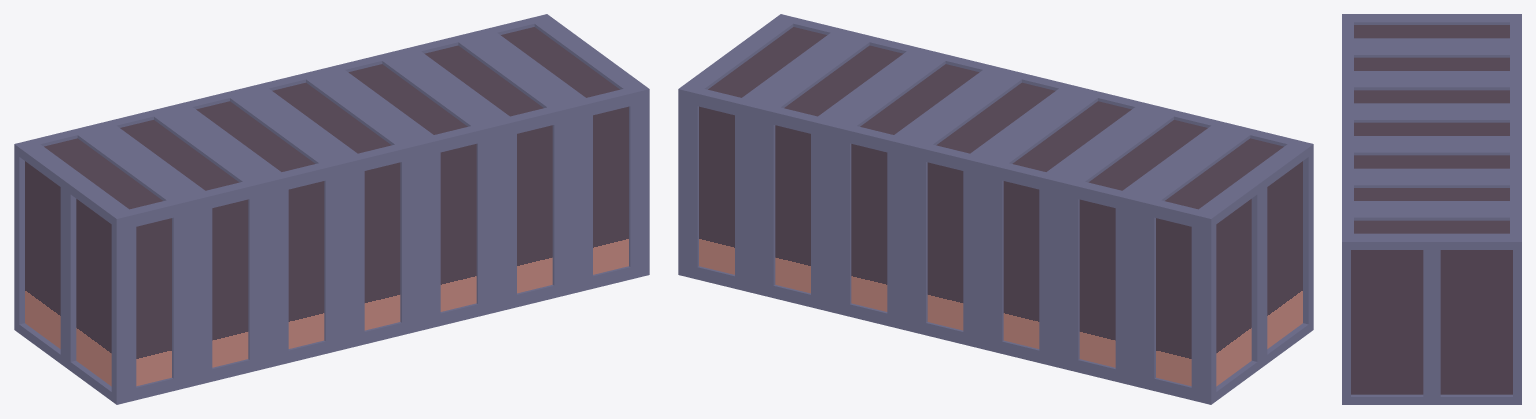
The model's file is Building4-ShippingContainerModel.glb.
The picture shows the model from 3 angles, left to right: view 1: azimuth 30°, elevation 25°; view 2: azimuth 150°, elevation 25°; view 3: azimuth 270°, elevation 25°; orthographic projection. The views are drawn at different scales.
Parts seen in each view (by area): view 1: Cube.009; view 2: Cube.009; view 3: Cube.009.
Boxes of the visible parts, bbox=[...] form: Cube.009: bbox=[14, 14, 649, 404]; Cube.009: bbox=[678, 14, 1313, 404]; Cube.009: bbox=[1342, 14, 1521, 404].
Size of the model in its own units: 6 by 2 by 2.
1 material, 1 textured.
